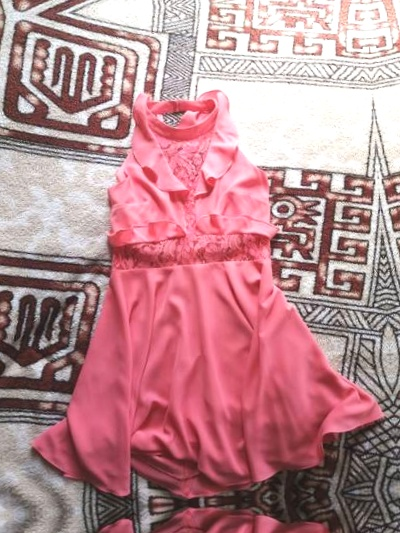Dress: (0, 59, 388, 505), (26, 500, 400, 533), (382, 33, 400, 479)
